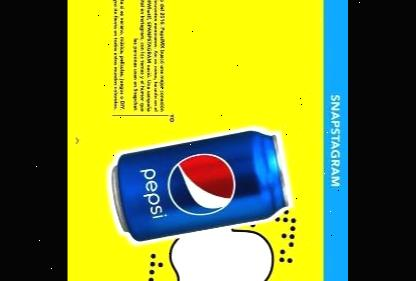Can: (112, 130, 290, 242)
